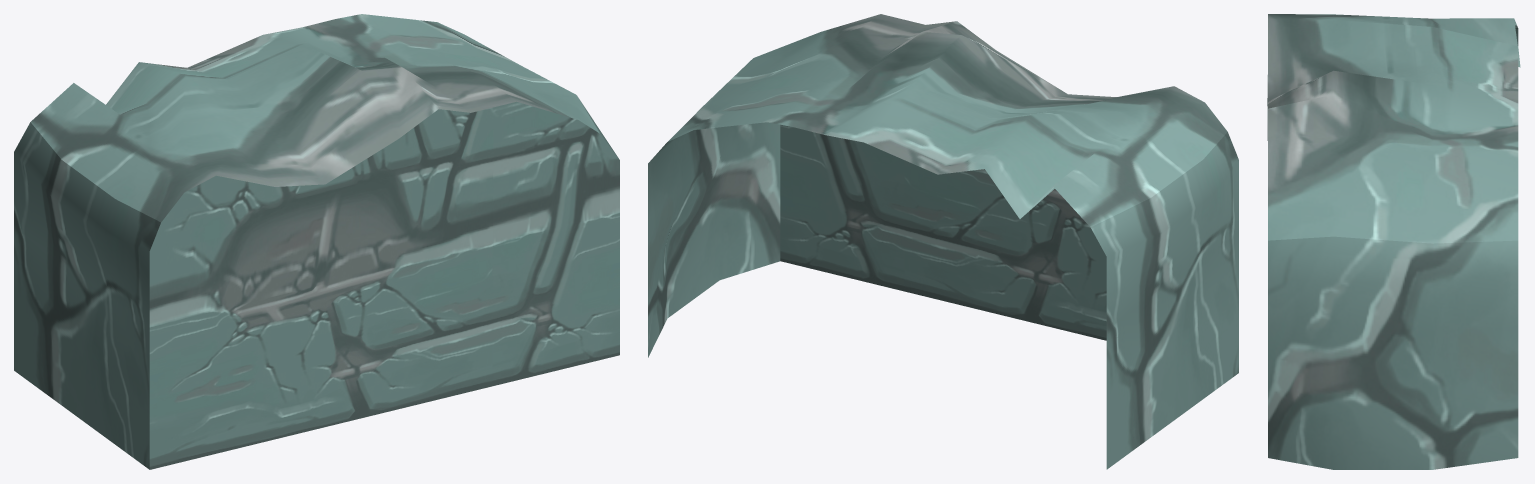
Rendered from broken_wall2.fbx.
3 views of the same model, side by side, from view 1: azimuth 30°, elevation 25°; view 2: azimuth 150°, elevation 25°; view 3: azimuth 270°, elevation 25° (orthographic). The views are drawn at different scales.
Parts seen in each view (by area): view 1: Broken_wall2; view 2: Broken_wall2; view 3: Broken_wall2.
Boxes of the visible parts, x1=… form: Broken_wall2: x1=14, y1=14, x2=619, y2=469; Broken_wall2: x1=648, y1=14, x2=1238, y2=469; Broken_wall2: x1=1267, y1=14, x2=1520, y2=469.
Bounding box in the file's own units: 2.15 × 1.27 × 1.01.
